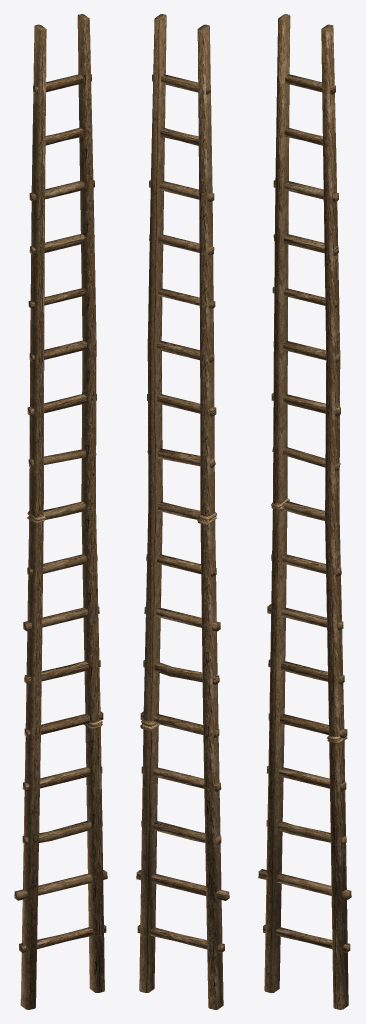
The model's file is ladder.obj.
3 renders of one model, left to right at view 1: azimuth 30°, elevation 25°; view 2: azimuth 150°, elevation 25°; view 3: azimuth 330°, elevation 25°, orthographic.
Parts seen in each view (by area): view 1: ladder.obj; view 2: ladder.obj; view 3: ladder.obj.
Boxes of the visible parts, <box> form: ladder.obj: <box>14,14,107,1009</box>; ladder.obj: <box>136,14,229,1009</box>; ladder.obj: <box>258,14,351,1009</box>.
Bounding box in the file's own units: 21.82 × 227 × 4.64.
Materials: 2 (2 with a texture image).
